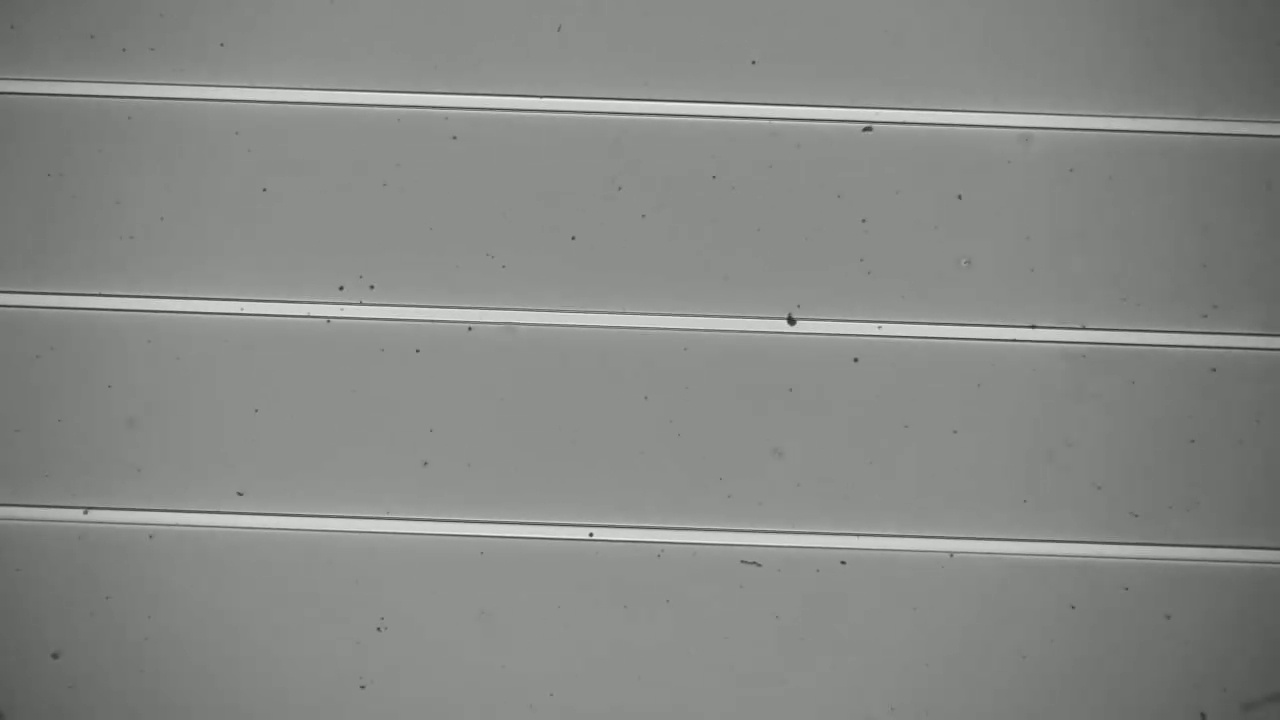stains_enbedded: (776, 306, 802, 341)
